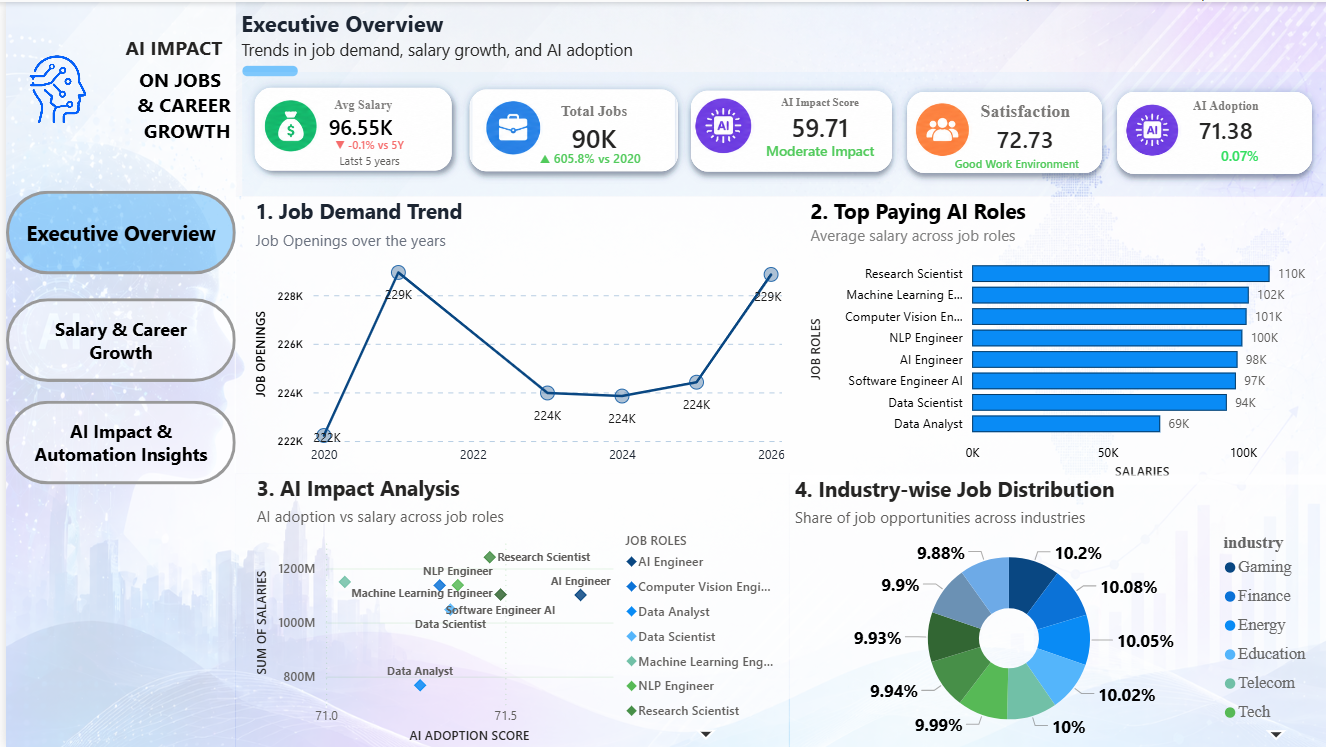

Layout of this report page (visuals, bound fields, positions):
{"tool":"powerbi","page":{"name":"Page 1","canvas":[1280,720],"ordinal":0},"visuals":[{"type":"textbox","box":[222.5,1.2,480,65],"z":0,"group":"g7"},{"type":"cardVisual","fields":{"Data":["global_ai_jobs.Total Jobs"]},"box":[434.7,72.6,225.9,103.8],"z":0,"group":"g4"},{"type":"cardVisual","fields":{"Data":["global_ai_jobs.AI Adoption"]},"box":[1060.3,74.5,212.1,103.8],"z":0,"group":"g8"},{"type":"shape","box":[227.5,58.8,53.8,15],"z":1000,"group":"g7"},{"type":"group","id":"g1","title":"Group 1","box":[228,67.6,214.6,117.9],"z":1000,"group":"g6"},{"type":"cardVisual","fields":{"Data":["global_ai_jobs.AI Impact Score"]},"box":[648.8,73.8,218.4,102.5],"z":1000,"group":"g5"},{"type":"group","id":"g2","title":"Group 6","box":[0,0,221.9,720],"z":2000,"group":"g7"},{"type":"group","id":"g3","title":"Group 3","box":[857.2,75.1,282,112.5],"z":2000,"group":"g6"},{"type":"cardVisual","fields":{"Data":["global_ai_jobs.Satisfaction"]},"box":[857.2,75.1,212.1,102.3],"z":2000,"group":"g3"},{"type":"cardVisual","title":"avg salary ","fields":{"Data":["global_ai_jobs.Avg Salary"]},"box":[228,67.6,214.6,107.5],"z":3000,"group":"g1"},{"type":"group","id":"g4","title":"Group 4","box":[384.3,72.6,275.8,110],"z":3000,"group":"g6"},{"type":"lineChart","title":"1. Job Demand Trend","fields":{"Category":["global_ai_jobs.year"],"Y":["Sum(global_ai_jobs.job_openings)"]},"box":[221.2,193.8,535,261.2],"z":3000,"group":"g7"},{"type":"group","id":"g5","title":"Group 5","box":[648.8,73.8,252.1,103.8],"z":4000,"group":"g6"},{"type":"cardVisual","fields":{"Data":["global_ai_jobs.Jobs Indicator 6Y"]},"box":[384.3,118.4,257.1,63.8],"z":4000,"group":"g4"},{"type":"clusteredBarChart","title":"2. Top Paying AI Roles","fields":{"Category":["global_ai_jobs.job_role"],"Y":["global_ai_jobs.Avg Salary"]},"box":[756.2,193.8,523.8,261.2],"z":4000,"group":"g7"},{"type":"cardVisual","fields":{"Data":["global_ai_jobs.AI Impact Label"]},"box":[716.2,106.6,184.7,71.2],"z":5000,"group":"g5"},{"type":"cardVisual","fields":{"Data":["global_ai_jobs.AI Growth 3Y"]},"box":[1103.4,124.5,177.2,51.2],"z":5000,"group":"g8"},{"type":"scatterChart","title":"3. AI Impact Analysis","fields":{"X":["Avg(global_ai_jobs.ai_adoption_score)"],"Y":["Sum(global_ai_jobs.salary_usd)"],"Size":["Sum(global_ai_jobs.job_openings)"],"Series":["global_ai_jobs.job_role"]},"box":[222.5,455,533.8,265],"z":5000,"group":"g7"},{"type":"cardVisual","fields":{"Data":["global_ai_jobs.Salary Indicator 5Y"]},"box":[273.3,106.7,154.7,78.8],"z":5003,"group":"g1"},{"type":"cardVisual","fields":{"Data":["global_ai_jobs.Measure 2"]},"box":[886.6,123.5,253.3,65],"z":5004,"group":"g3"},{"type":"donutChart","title":"4. Industry-wise Job Distribution","fields":{"Y":["Sum(global_ai_jobs.job_openings)"],"Category":["global_ai_jobs.industry"]},"box":[756.3,455.6,523.5,264],"z":6000,"group":"g7"},{"type":"group","id":"g6","title":"Group 7","box":[228,67.6,1052,119.4],"z":7000,"group":"g7"},{"type":"textbox","box":[0,0,221.9,719.6],"z":7502,"group":"g2"},{"type":"actionButton","title":"PAGE2","box":[0,182,221.9,80.8],"z":8000,"group":"g7"},{"type":"image","box":[14.5,41,67.5,89.2],"z":8502,"group":"g2"},{"type":"actionButton","title":"PAGE2","box":[0,285.7,221.9,80.8],"z":9000,"group":"g7"},{"type":"actionButton","title":"PAGE2","box":[0,384.5,221.9,80.8],"z":10000,"group":"g7"},{"type":"group","id":"g7","title":"Group 8","box":[0,0,1280,720],"z":10002},{"type":"group","id":"g8","title":"Group 2","box":[1060.3,74.5,220.2,103.8],"z":13001,"group":"g6"}]}

Visuals, with their boxes in screenshot pixels (x1, y1, x2, y2), scaled from the page's 1280x720 canvas onto the 1326x747 screenshot:
textbox: [x1=230, y1=1, x2=728, y2=69]
cardVisual - global_ai_jobs.Total Jobs: [x1=450, y1=75, x2=684, y2=183]
cardVisual - global_ai_jobs.AI Adoption: [x1=1098, y1=77, x2=1318, y2=185]
shape: [x1=236, y1=61, x2=291, y2=77]
"Group 1" group: [x1=236, y1=70, x2=459, y2=192]
cardVisual - global_ai_jobs.AI Impact Score: [x1=672, y1=77, x2=898, y2=183]
"Group 6" group: [x1=0, y1=0, x2=230, y2=746]
"Group 3" group: [x1=888, y1=78, x2=1180, y2=195]
cardVisual - global_ai_jobs.Satisfaction: [x1=888, y1=78, x2=1108, y2=184]
"avg salary " cardVisual: [x1=236, y1=70, x2=459, y2=182]
"Group 4" group: [x1=398, y1=75, x2=684, y2=189]
"1. Job Demand Trend" lineChart: [x1=229, y1=201, x2=783, y2=472]
"Group 5" group: [x1=672, y1=77, x2=933, y2=184]
cardVisual - global_ai_jobs.Jobs Indicator 6Y: [x1=398, y1=123, x2=664, y2=189]
"2. Top Paying AI Roles" clusteredBarChart: [x1=783, y1=201, x2=1325, y2=472]
cardVisual - global_ai_jobs.AI Impact Label: [x1=742, y1=111, x2=933, y2=184]
cardVisual - global_ai_jobs.AI Growth 3Y: [x1=1143, y1=129, x2=1325, y2=182]
"3. AI Impact Analysis" scatterChart: [x1=230, y1=472, x2=783, y2=746]
cardVisual - global_ai_jobs.Salary Indicator 5Y: [x1=283, y1=111, x2=443, y2=192]
cardVisual - global_ai_jobs.Measure 2: [x1=918, y1=128, x2=1181, y2=196]
"4. Industry-wise Job Distribution" donutChart: [x1=783, y1=473, x2=1325, y2=746]
"Group 7" group: [x1=236, y1=70, x2=1325, y2=194]
textbox: [x1=0, y1=0, x2=230, y2=746]
"PAGE2" actionButton: [x1=0, y1=189, x2=230, y2=273]
image: [x1=15, y1=43, x2=85, y2=135]
"PAGE2" actionButton: [x1=0, y1=296, x2=230, y2=380]
"PAGE2" actionButton: [x1=0, y1=399, x2=230, y2=483]
"Group 8" group: [x1=0, y1=0, x2=1325, y2=746]
"Group 2" group: [x1=1098, y1=77, x2=1325, y2=185]
